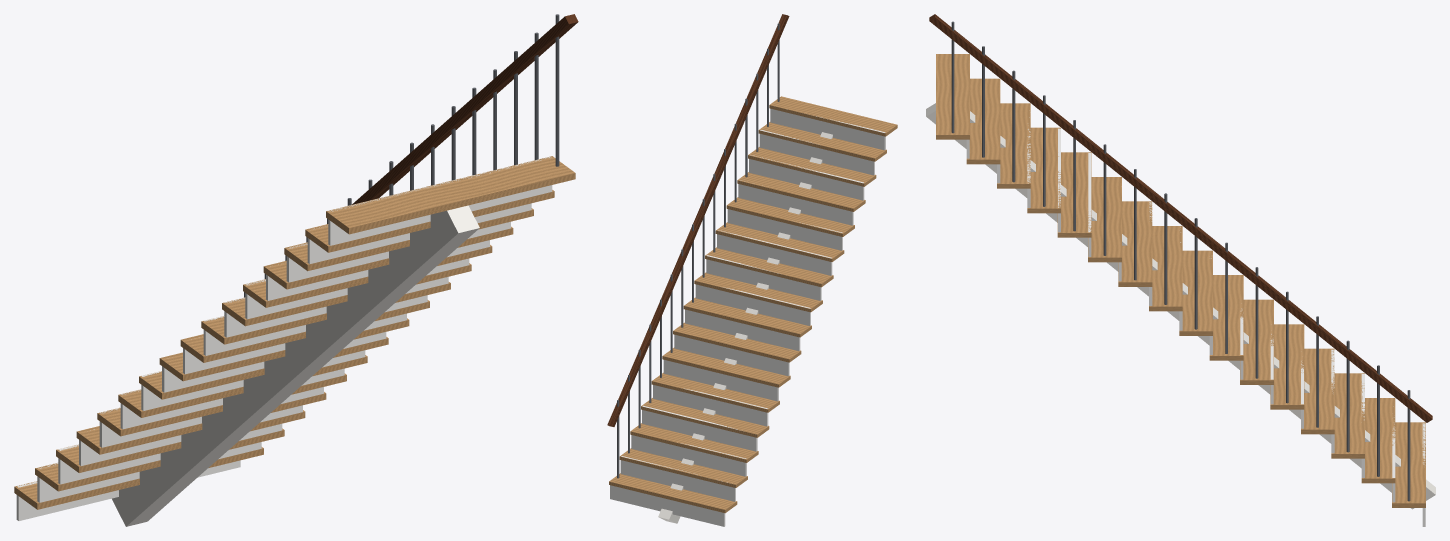
File: stair_flight_straight.glb
3 renders of one model, left to right at view 1: azimuth 30°, elevation 25°; view 2: azimuth 150°, elevation 25°; view 3: azimuth 270°, elevation 25°, orthographic. The views are drawn at different scales.
Visible parts, largest first — view 1: stair_flight_straight_woodOak, stair_flight_straight_stairRiserWhite, stair_flight_straight_concreteStructural, stair_flight_straight_woodWalnut, stair_flight_straight_metalBlack; view 2: stair_flight_straight_stairRiserWhite, stair_flight_straight_woodOak, stair_flight_straight_woodWalnut, stair_flight_straight_metalBlack, stair_flight_straight_concreteStructural; view 3: stair_flight_straight_woodOak, stair_flight_straight_woodWalnut, stair_flight_straight_metalBlack, stair_flight_straight_stairRiserWhite, stair_flight_straight_concreteStructural.
Part boxes in pixels (x1,y1,x2,y2): stair_flight_straight_woodOak: [14, 156, 575, 509]; stair_flight_straight_stairRiserWhite: [16, 157, 552, 520]; stair_flight_straight_concreteStructural: [112, 205, 479, 526]; stair_flight_straight_woodWalnut: [352, 14, 578, 204]; stair_flight_straight_metalBlack: [244, 14, 559, 297]; stair_flight_straight_stairRiserWhite: [610, 108, 885, 526]; stair_flight_straight_woodOak: [609, 96, 897, 513]; stair_flight_straight_woodWalnut: [607, 14, 789, 426]; stair_flight_straight_metalBlack: [617, 23, 779, 478]; stair_flight_straight_concreteStructural: [658, 132, 832, 523]; stair_flight_straight_woodOak: [936, 54, 1425, 507]; stair_flight_straight_woodWalnut: [929, 14, 1432, 422]; stair_flight_straight_metalBlack: [951, 21, 1410, 501]; stair_flight_straight_stairRiserWhite: [966, 117, 1425, 526]; stair_flight_straight_concreteStructural: [926, 103, 1435, 509].
Size of what is drawn, in the model's own units: 1.05 by 3.2 by 2.8.
Materials: 5 (2 with a texture image).
